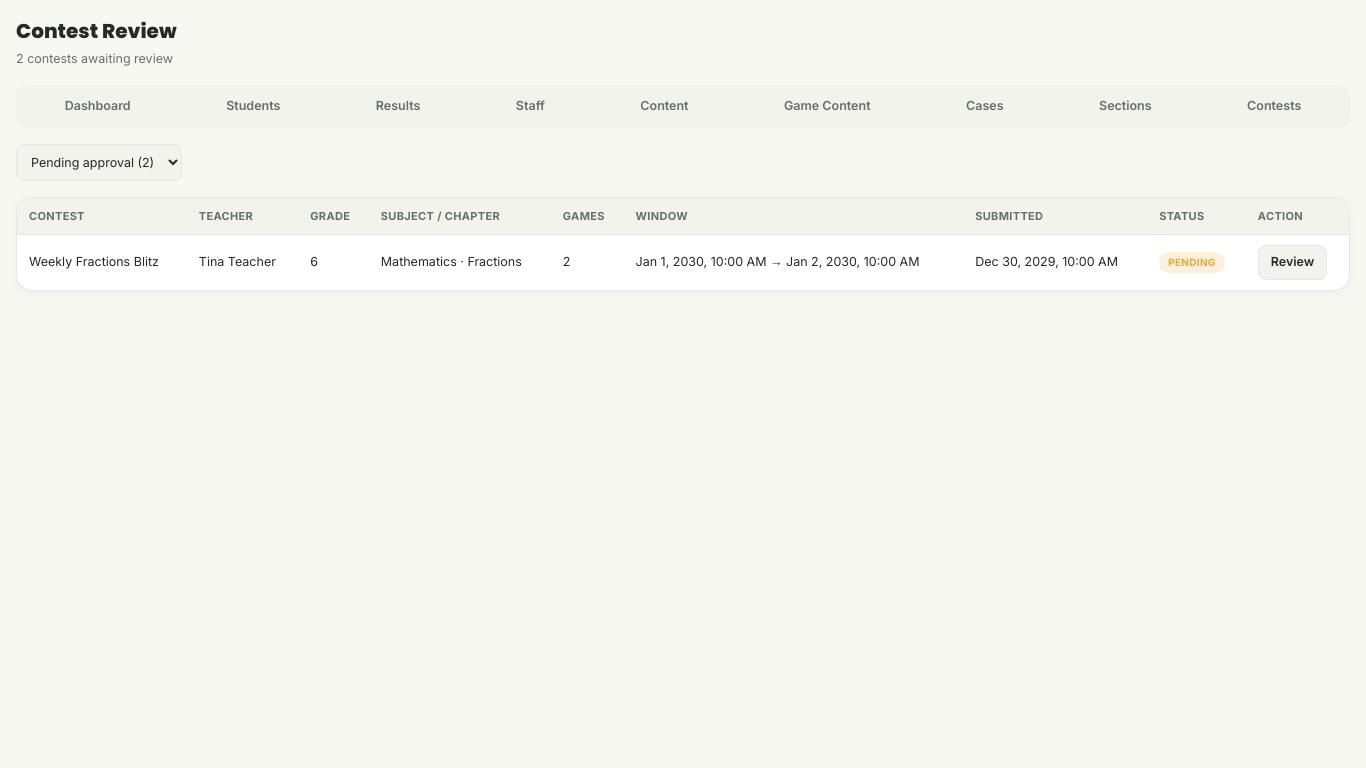
Test: review details modal › a failed detail load is shown
Check: the text "Weekly Fractions Blitz" is shown, box [17,234,187,290]
Click the button "Review ": (1293, 262) [1258,245,1327,280]
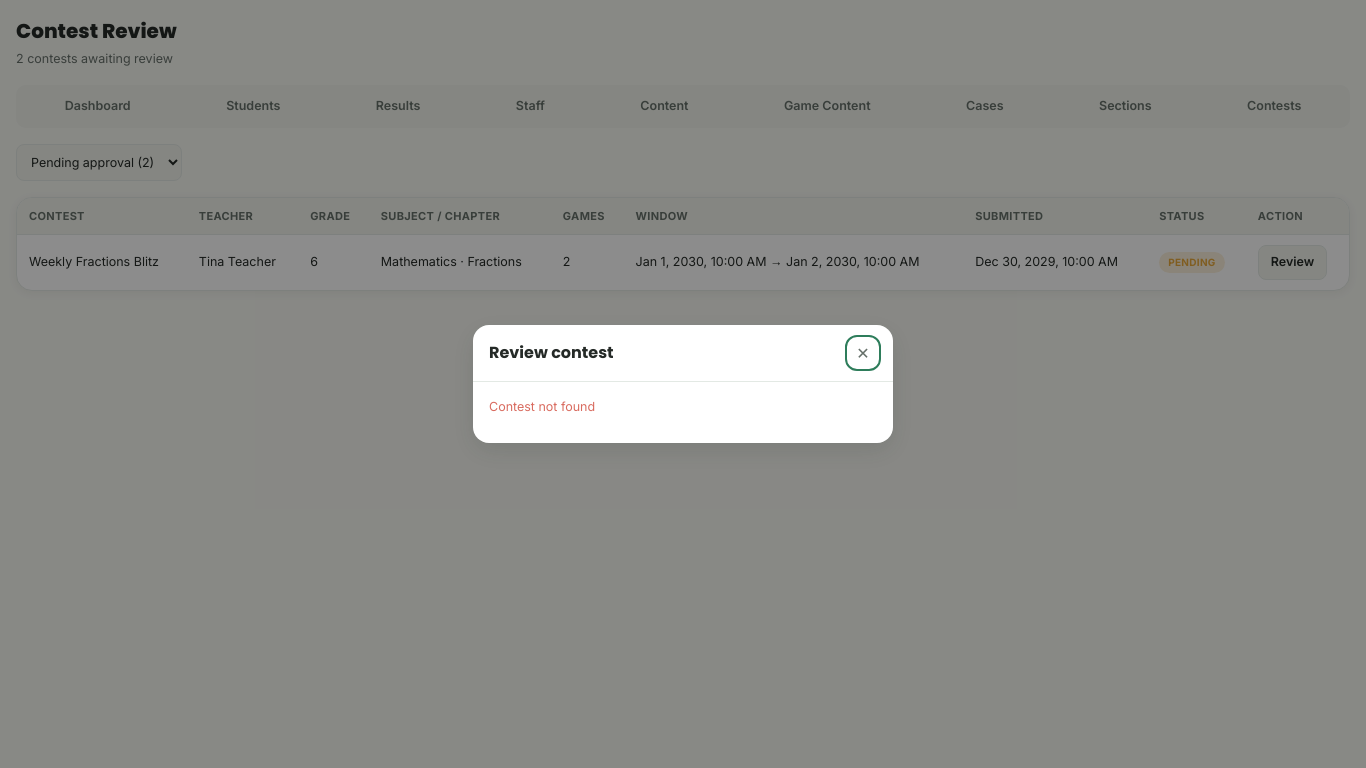
Check: the text "Contest not found" is shown, box [489,399,595,414]
